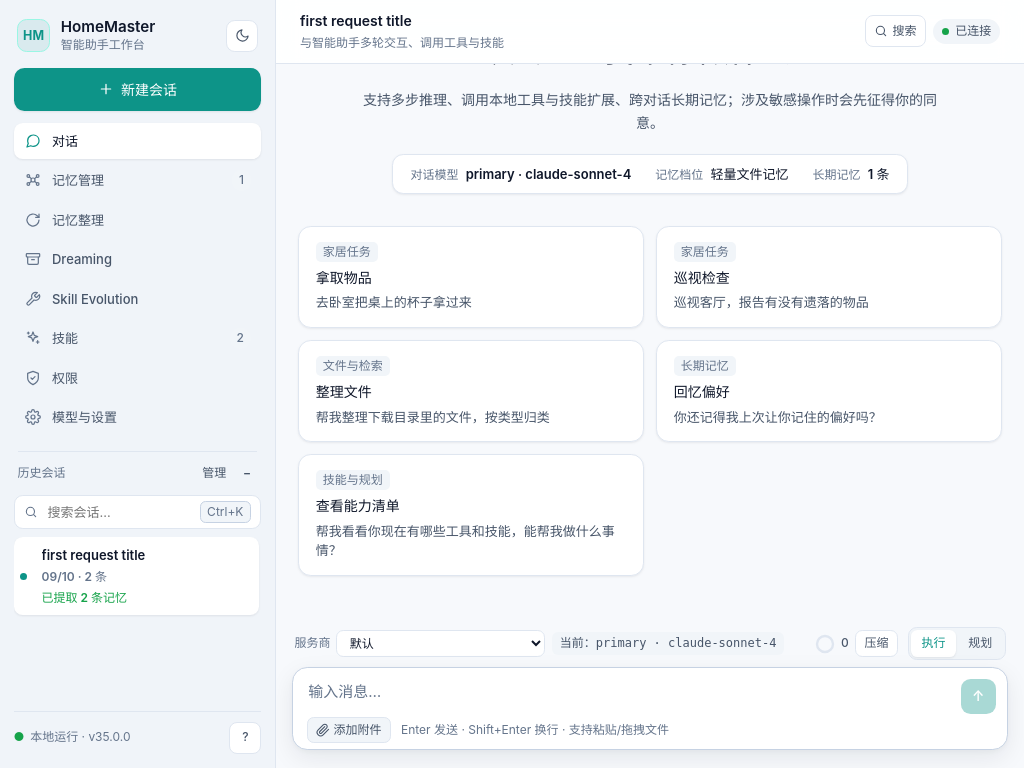
Test: App memory navigation › opens the permissions view and reads the grant list from the backend
This screenshot has width=1024, height=768.
(page scrolled)
Expected: the button with aria-label "打开会话 first request title" is shown, [31,537,259,615]
Click the button "权限" at (138, 378), box [14,360,261,396]
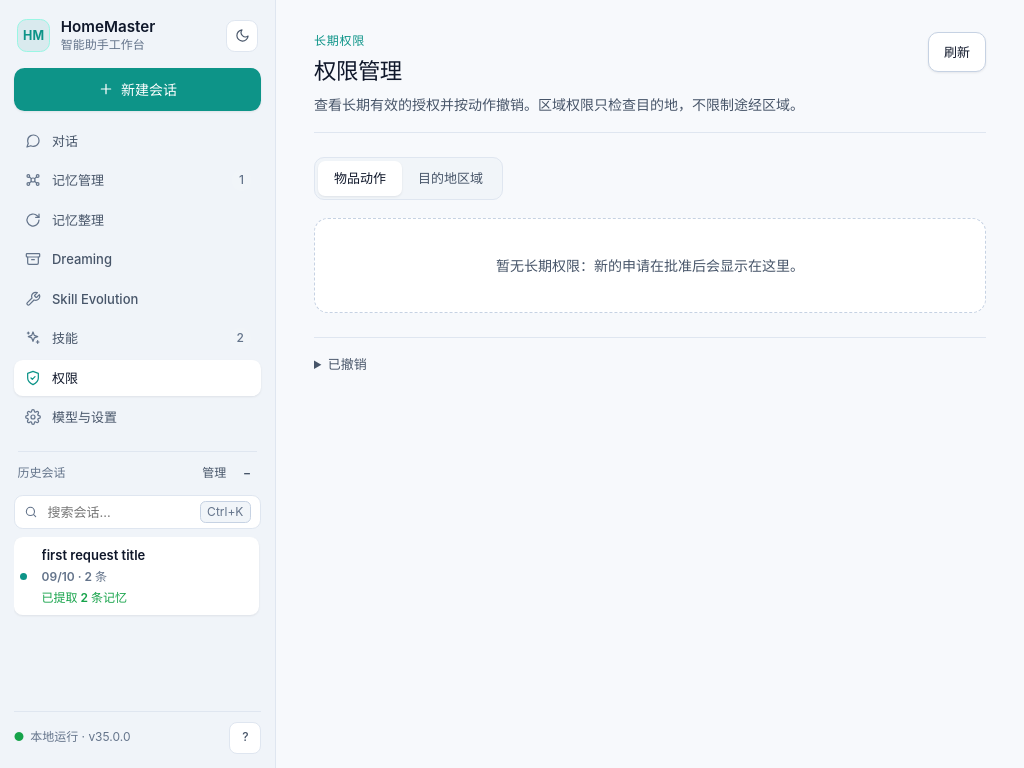
Expected: the heading "权限管理" is shown, [314,57,402,84]
Expected: the text "暂无长期权限：新的申请在批准后会显示在这里。" is shown, [314,218,986,313]
Expected: the text "查看长期有效的授权并按动作撤销。区域权限只检查目的地，不限制途经区域。" is shown, [314,94,804,116]
